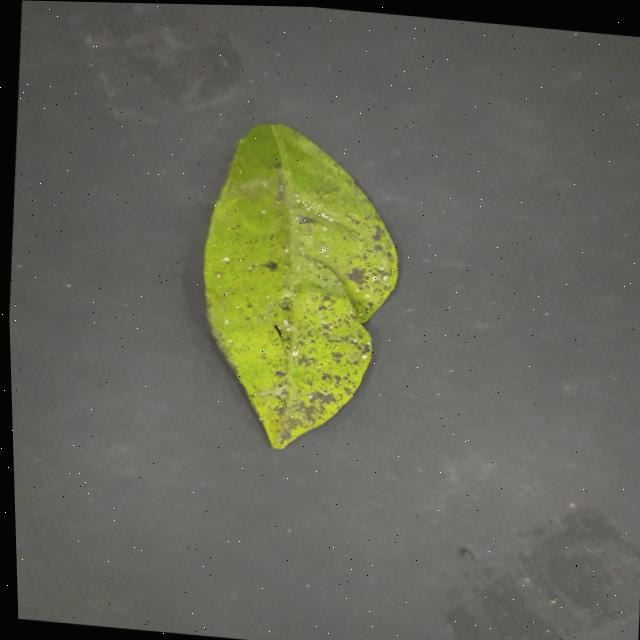greasy_spot: (203, 123, 397, 447)
